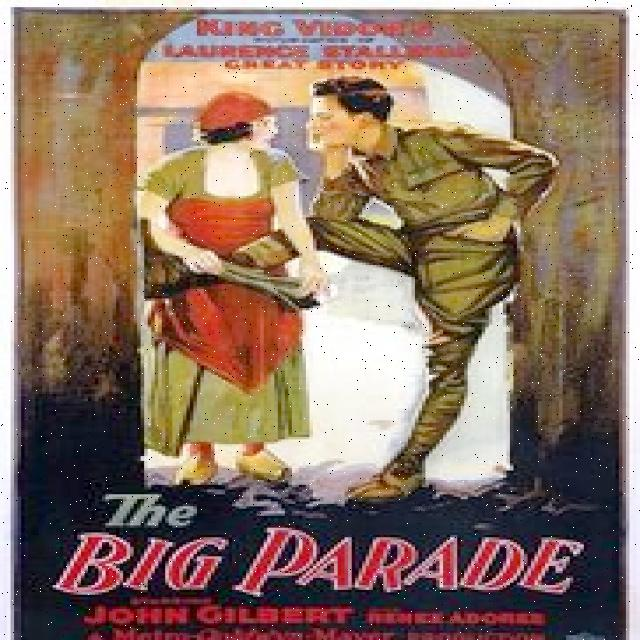movie-judul: (33, 481, 616, 640), (116, 10, 499, 76)
picture: (17, 11, 620, 512)
